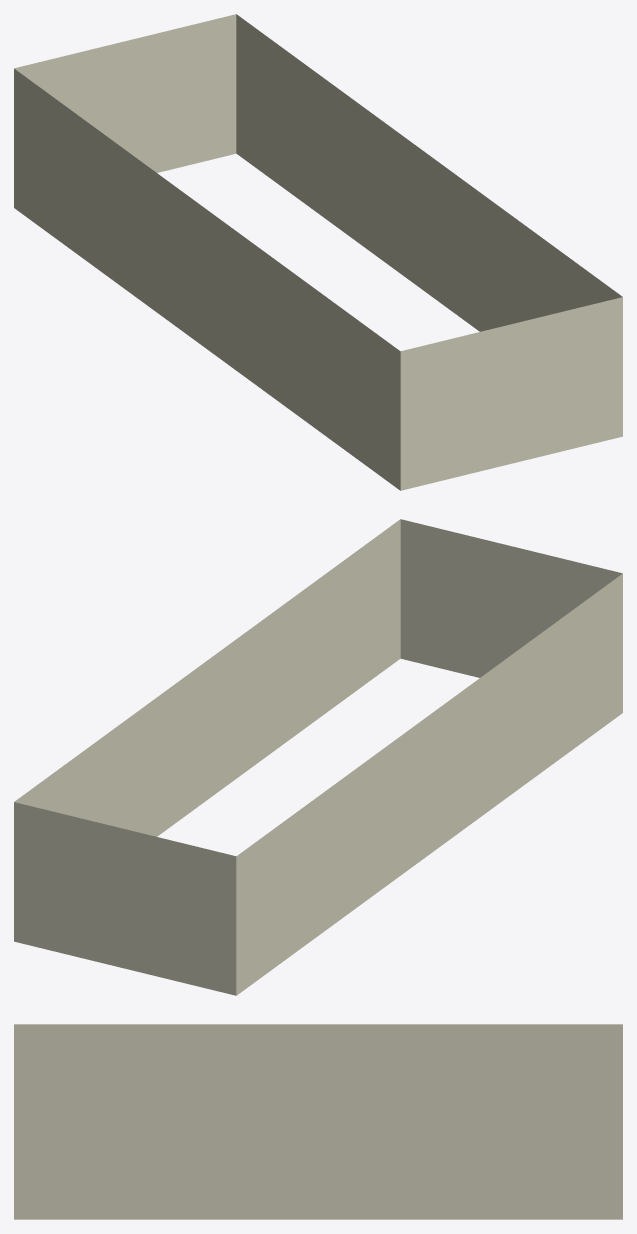
The model's file is fbx_building_2_floor1.fbx.
The picture shows the model from 3 angles, top to bottom: view 1: azimuth 30°, elevation 25°; view 2: azimuth 150°, elevation 25°; view 3: azimuth 270°, elevation 25°; orthographic projection. The views are drawn at different scales.
Visible parts, largest first — view 1: fbx_building_2_floor1; view 2: fbx_building_2_floor1; view 3: fbx_building_2_floor1.
Boxes of the visible parts, <box> form: fbx_building_2_floor1: <box>14,14,622,490</box>; fbx_building_2_floor1: <box>14,519,622,995</box>; fbx_building_2_floor1: <box>14,1024,622,1219</box>.
Size of the model in its own units: 1.72 by 1.03 by 5.18.
1 material, 1 textured.
